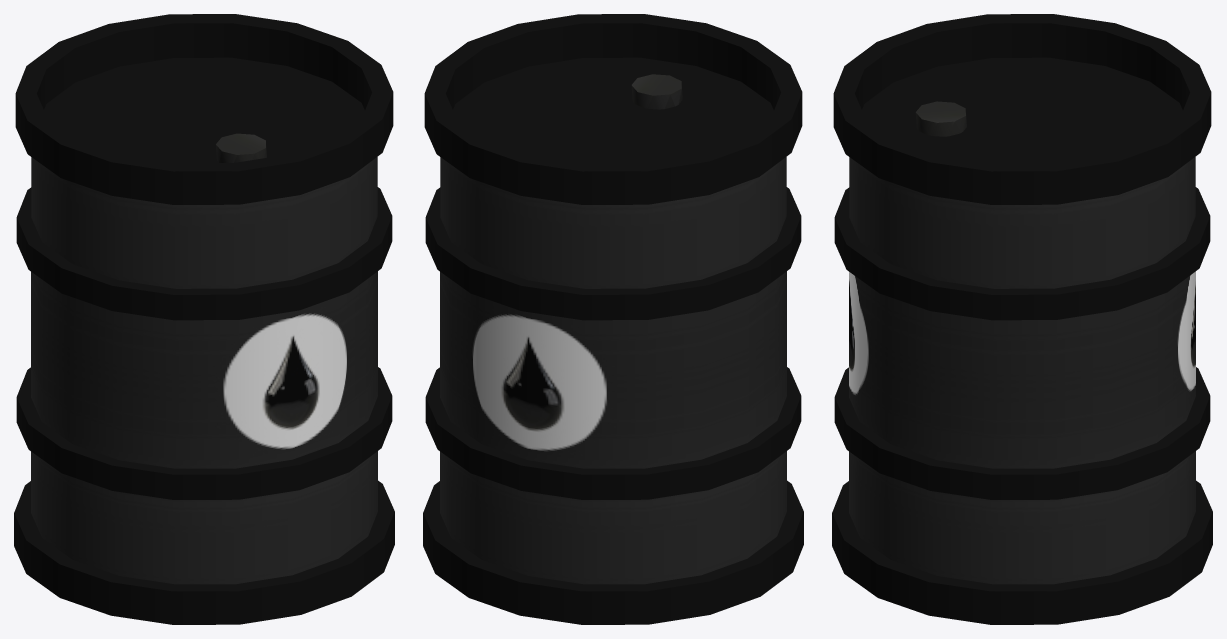
Rendered from fuel.fbx.
3 renders of one model, left to right at view 1: azimuth 30°, elevation 25°; view 2: azimuth 150°, elevation 25°; view 3: azimuth 270°, elevation 25°, orthographic.
Parts seen in each view (by area): view 1: fuel; view 2: fuel; view 3: fuel.
Part boxes in pixels (<box>): fuel: <box>14,14,394,624</box>; fuel: <box>423,14,803,624</box>; fuel: <box>832,14,1212,624</box>.
Size of the model in its own units: 134 by 178 by 135.
